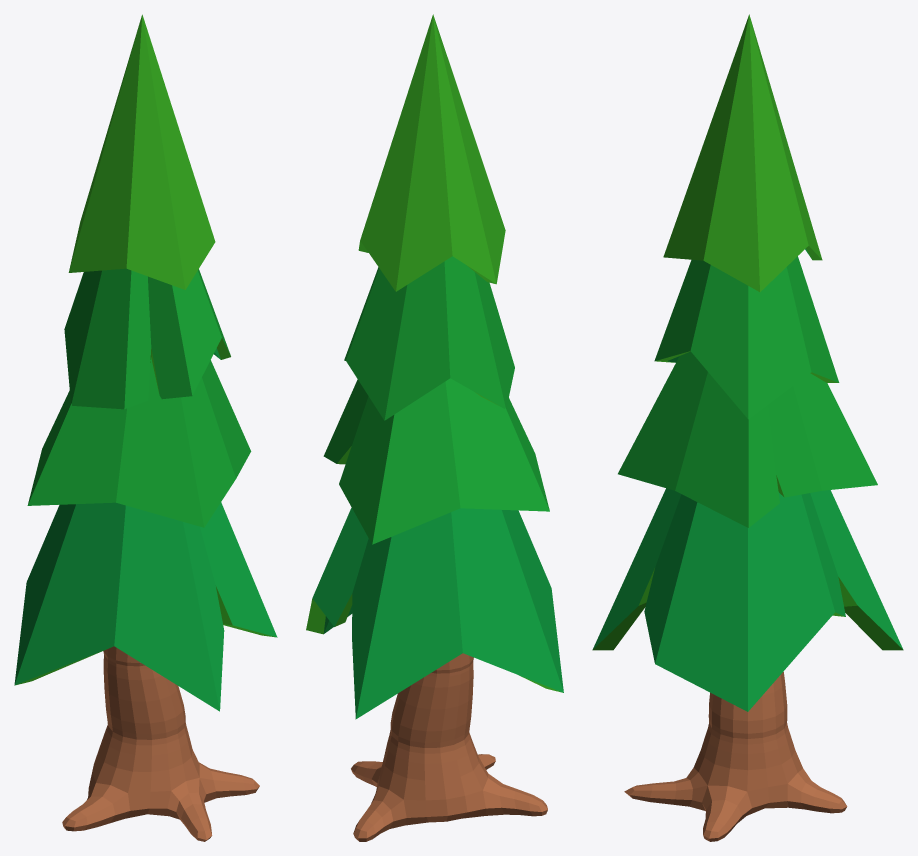
Rendered from Tree.fbx.
3 views of the same model, side by side, from view 1: azimuth 30°, elevation 25°; view 2: azimuth 150°, elevation 25°; view 3: azimuth 270°, elevation 25° (orthographic).
Parts seen in each view (by area): view 1: Tree; view 2: Tree; view 3: Tree.
Boxes of the visible parts, bbox=[...] form: Tree: bbox=[14, 14, 277, 841]; Tree: bbox=[306, 14, 563, 841]; Tree: bbox=[592, 14, 903, 841].
Size of the model in its own units: 7.97 by 23.6 by 8.48.
